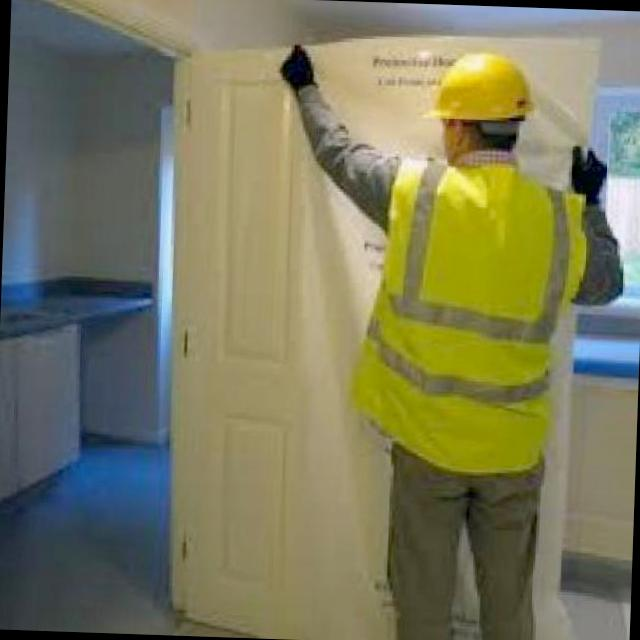vest: (354, 148, 589, 478)
